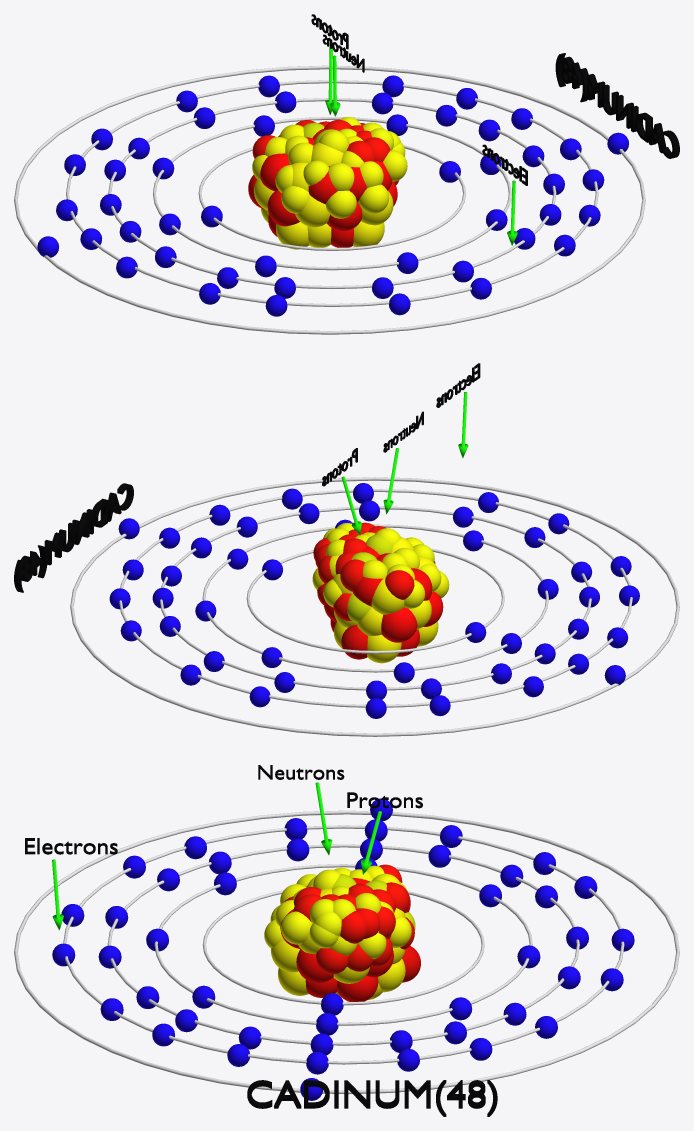
File: Cadnium Atomic Model.gltf
3 views of the same model, one above another, from view 1: azimuth 30°, elevation 25°; view 2: azimuth 150°, elevation 25°; view 3: azimuth 270°, elevation 25° (orthographic). The views are drawn at different scales.
Visible parts, largest first — view 1: Sphere.012, Torus.004, Torus.003, Text.003, Torus.002, Torus.001, Torus, Text; view 2: Sphere.012, Torus.004, Torus.003, Text.003, Torus.002, Torus.001, Torus, Sphere.016; view 3: Sphere.012, Torus.004, Torus.003, Text.003, Torus.002, Torus.001, Torus, Text, Sphere.057, Sphere.009, Text.001.
Part boxes in pixels (left/top/right/bottom): Sphere.012: left=248, top=119, right=407, bottom=249; Torus.004: left=14, top=65, right=645, bottom=334; Torus.003: left=66, top=80, right=598, bottom=306; Text.003: left=555, top=53, right=679, bottom=158; Torus.002: left=108, top=98, right=556, bottom=289; Torus.001: left=153, top=117, right=511, bottom=270; Torus: left=198, top=145, right=465, bottom=250; Text: left=482, top=144, right=527, bottom=185; Sphere.012: left=312, top=522, right=449, bottom=663; Torus.004: left=70, top=477, right=679, bottom=736; Torus.003: left=119, top=489, right=632, bottom=707; Text.003: left=14, top=483, right=133, bottom=592; Torus.002: left=160, top=506, right=591, bottom=690; Torus.001: left=202, top=524, right=548, bottom=672; Torus: left=246, top=548, right=504, bottom=653; Sphere.016: left=385, top=570, right=414, bottom=599; Sphere.012: left=264, top=865, right=420, bottom=1001; Torus.004: left=14, top=810, right=679, bottom=1094; Torus.003: left=63, top=825, right=624, bottom=1064; Text.003: left=247, top=1080, right=497, bottom=1116; Torus.002: left=107, top=844, right=579, bottom=1045; Torus.001: left=154, top=864, right=532, bottom=1025; Torus: left=202, top=890, right=484, bottom=1005; Text: left=25, top=838, right=117, bottom=854; Sphere.057: left=340, top=911, right=366, bottom=943; Sphere.009: left=316, top=948, right=348, bottom=974; Text.001: left=258, top=765, right=344, bottom=779.
Size of the model in its own units: 2.4 by 0.8477 by 2.27.
